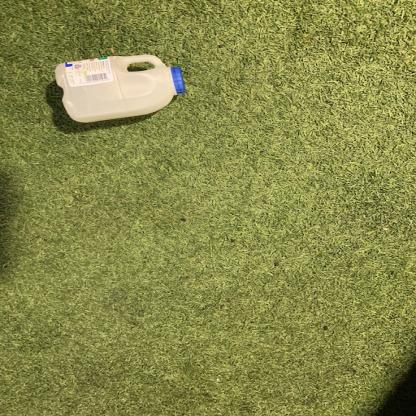trash: (55, 53, 185, 123)
